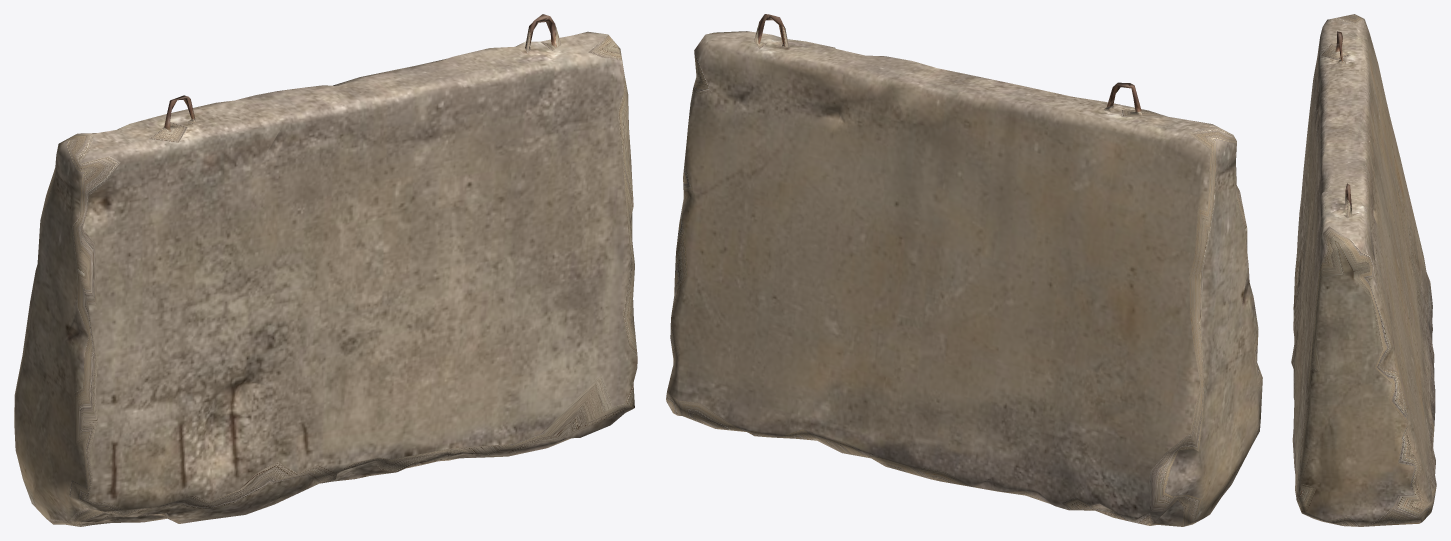
The model's file is concrete_road_barrier_02.glb.
3 views of the same model, side by side, from view 1: azimuth 30°, elevation 25°; view 2: azimuth 150°, elevation 25°; view 3: azimuth 270°, elevation 25° (orthographic). The views are drawn at different scales.
Parts seen in each view (by area): view 1: concrete_road_barrier_02; view 2: concrete_road_barrier_02; view 3: concrete_road_barrier_02.
Boxes of the visible parts, x1,y1,x2,y2 form: concrete_road_barrier_02: [14, 14, 637, 526]; concrete_road_barrier_02: [666, 14, 1262, 526]; concrete_road_barrier_02: [1291, 14, 1436, 526].
Size of the model in its own units: 1.56 by 1.1 by 0.4418.
1 material, 1 textured.
